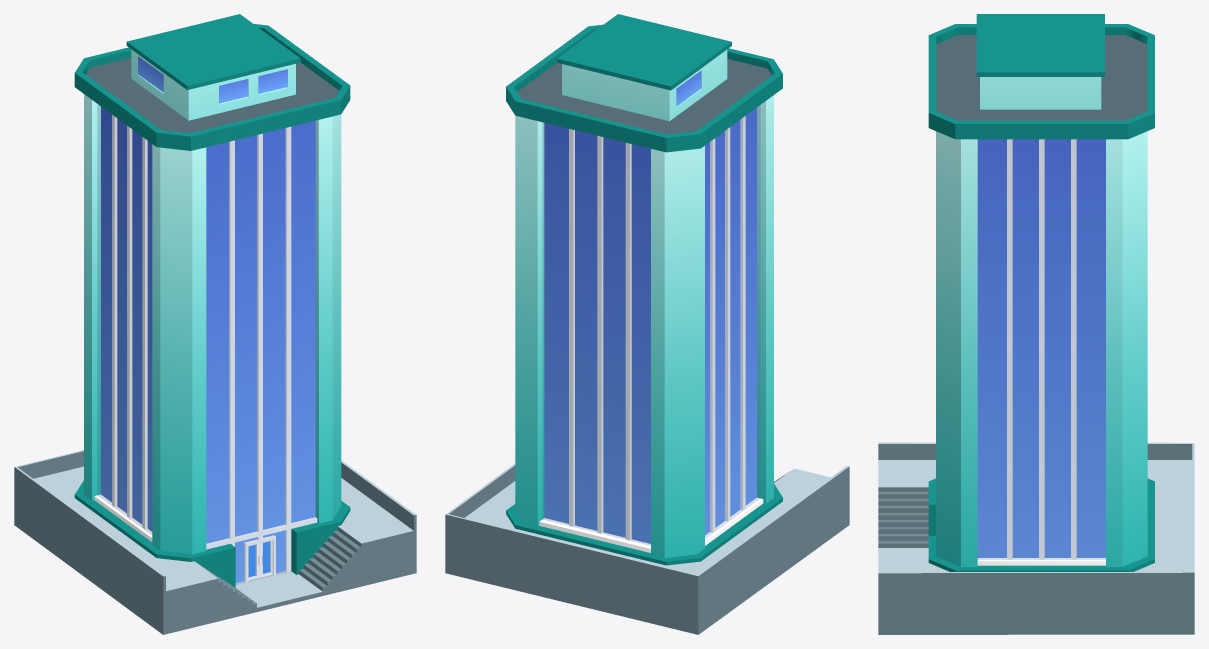
File: Building_Business_08.glb
3 renders of one model, left to right at view 1: azimuth 30°, elevation 25°; view 2: azimuth 150°, elevation 25°; view 3: azimuth 270°, elevation 25°, orthographic. The views are drawn at different scales.
Parts seen in each view (by area): view 1: Building_Business_08; view 2: Building_Business_08; view 3: Building_Business_08.
Boxes of the visible parts, x1,y1,x2,y2 form: Building_Business_08: (14,14,416,634); Building_Business_08: (445,14,849,634); Building_Business_08: (878,14,1194,634).
Size of the model in its own units: 15.72 by 29.52 by 16.08.
Materials: 2 (2 with a texture image).
